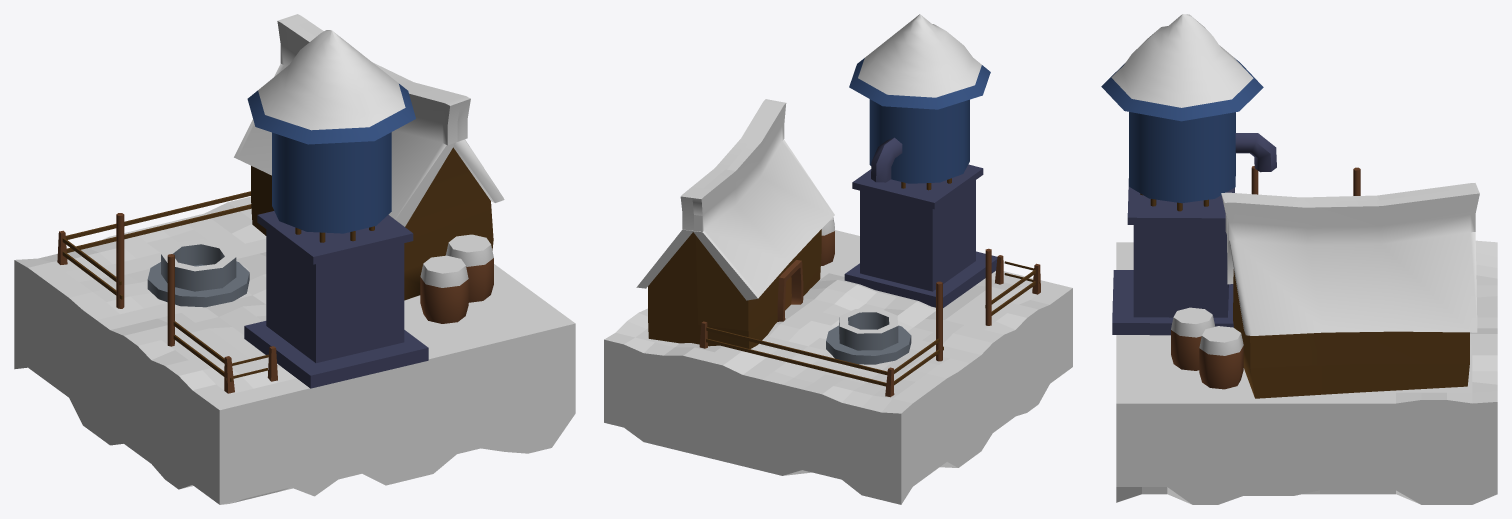
The model's file is village.fbx.
3 renders of one model, left to right at view 1: azimuth 30°, elevation 25°; view 2: azimuth 150°, elevation 25°; view 3: azimuth 270°, elevation 25°, orthographic. The views are drawn at different scales.
Parts seen in each view (by area): view 1: cube_mud_1, 圆锥_2, 阵列_1, 立方体_8, 圆柱_1, 圆柱, 圆柱_4, 立方体_9, 立方体_4, 圆柱_3, 圆柱_2; view 2: cube_mud_1, 立方体_8, 圆锥_2, 阵列_1, 圆柱_1, 扫描, 立方体_9, 立方体_4, 圆柱, 圆柱_2, 圆柱_3; view 3: cube_mud_1, 立方体_8, 圆锥_2, 阵列_1, 圆柱_4, 圆柱, 扫描.
Boxes of the visible parts, left/top/right/bottom form: cube_mud_1: left=14, top=196, right=575, bottom=504; 圆锥_2: left=247, top=30, right=415, bottom=233; 阵列_1: left=244, top=211, right=428, bottom=388; 立方体_8: left=234, top=14, right=504, bottom=300; 圆柱_1: left=147, top=239, right=249, bottom=307; 圆柱: left=420, top=255, right=468, bottom=323; 圆柱_4: left=446, top=234, right=493, bottom=302; 立方体_9: left=66, top=191, right=250, bottom=239; 立方体_4: left=66, top=204, right=251, bottom=252; 圆柱_3: left=116, top=213, right=124, bottom=308; 圆柱_2: left=167, top=254, right=174, bottom=346; cube_mud_1: left=604, top=230, right=1072, bottom=504; 立方体_8: left=636, top=99, right=834, bottom=349; 圆锥_2: left=849, top=14, right=990, bottom=183; 阵列_1: left=844, top=164, right=997, bottom=307; 圆柱_1: left=826, top=308, right=911, bottom=364; 扫描: left=871, top=137, right=902, bottom=182; 立方体_9: left=706, top=327, right=887, bottom=374; 立方体_4: left=706, top=338, right=886, bottom=386; 圆柱: left=821, top=217, right=834, bottom=265; 圆柱_2: left=985, top=248, right=991, bottom=325; 圆柱_3: left=936, top=281, right=942, bottom=361; cube_mud_1: left=1116, top=240, right=1497, bottom=504; 立方体_8: left=1221, top=183, right=1479, bottom=398; 圆锥_2: left=1101, top=14, right=1263, bottom=203; 阵列_1: left=1112, top=178, right=1234, bottom=335; 圆柱_4: left=1199, top=326, right=1243, bottom=389; 圆柱: left=1171, top=307, right=1215, bottom=370; 扫描: left=1235, top=133, right=1276, bottom=172.
Bounding box in the file's own units: 102 × 120 × 106.
